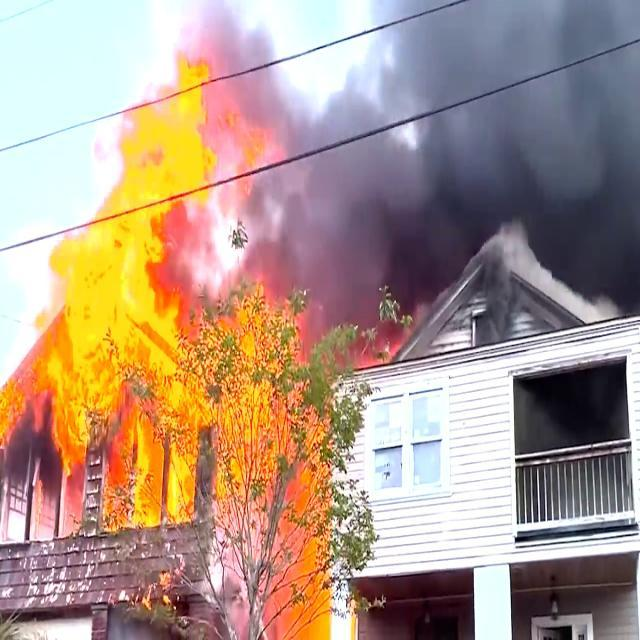Fire: (32, 36, 196, 516), (215, 338, 315, 640), (0, 382, 17, 446)
Smoke: (243, 0, 640, 233), (250, 238, 448, 313)
